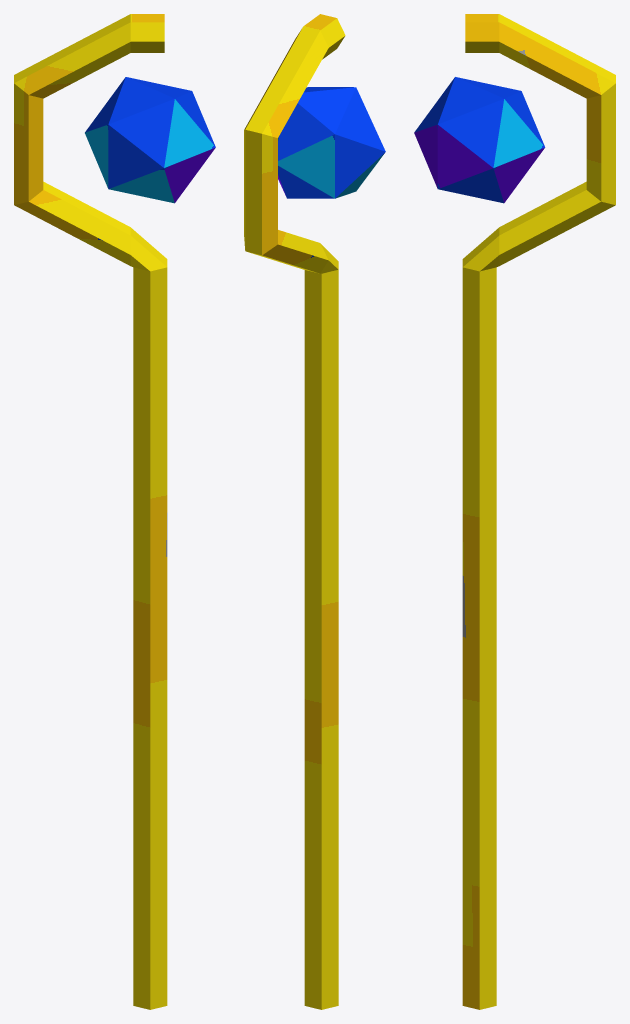
Rendered from item_god_thunder_staff.obj.
3 renders of one model, left to right at view 1: azimuth 90°, elevation 25°; view 2: azimuth 150°, elevation 25°; view 3: azimuth 270°, elevation 25°, orthographic.
Visible parts, largest first — view 1: cylinder, icosphere; view 2: cylinder, icosphere; view 3: cylinder, icosphere.
Boxes of the visible parts, x1=… form: cylinder: x1=14, y1=14, x2=167, y2=1009; icosphere: x1=85, y1=77, x2=215, y2=203; cylinder: x1=244, y1=14, x2=345, y2=1009; icosphere: x1=278, y1=87, x2=385, y2=198; cylinder: x1=462, y1=14, x2=615, y2=1009; icosphere: x1=414, y1=77, x2=545, y2=203.
Bounding box in the file's own units: 0.1224 × 0.9989 × 0.1858.
Materials: 1 (1 with a texture image).
